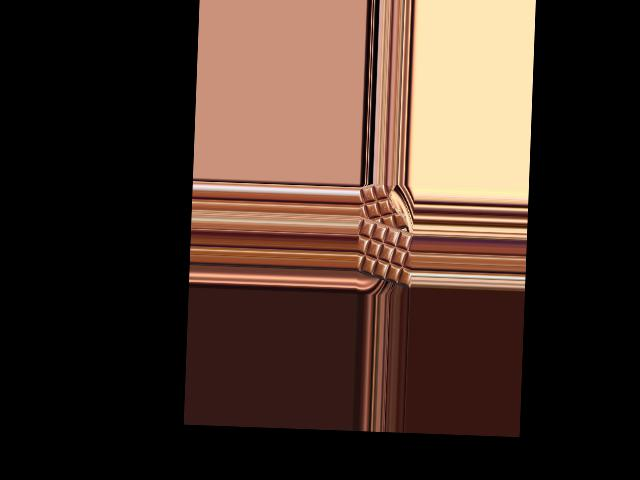chocolate: (355, 215, 412, 289)
